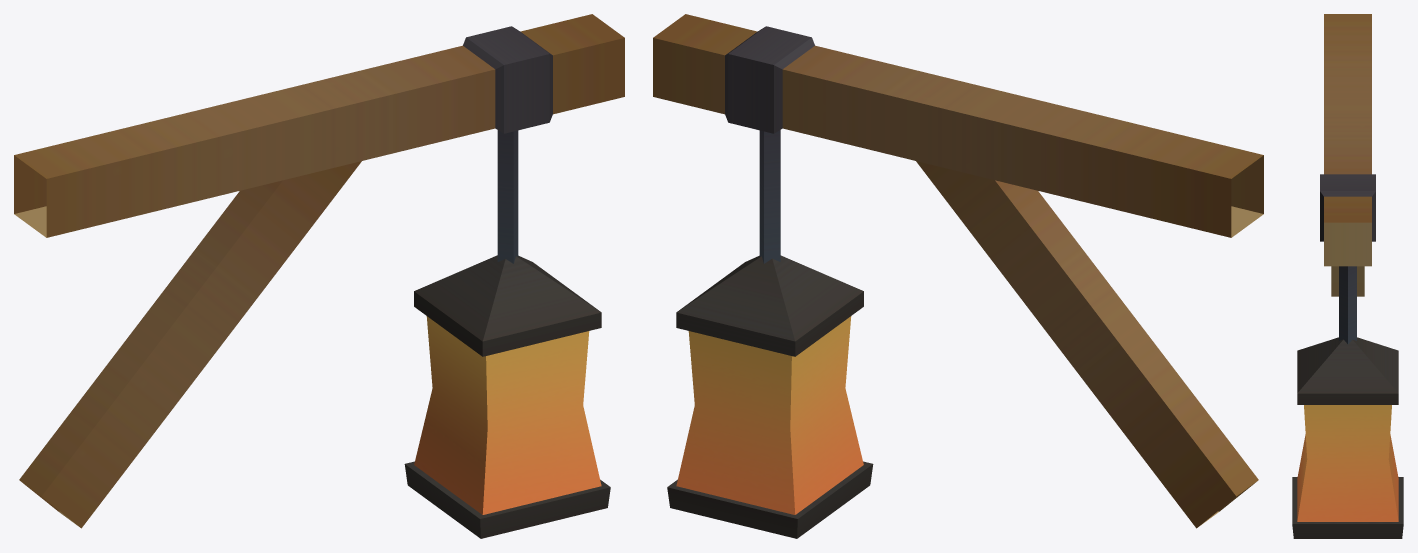
File: Lamp_3_LOD1.fbx
3 renders of one model, left to right at view 1: azimuth 30°, elevation 25°; view 2: azimuth 150°, elevation 25°; view 3: azimuth 270°, elevation 25°, orthographic. The views are drawn at different scales.
Parts seen in each view (by area): view 1: polySurface9697; view 2: polySurface9697; view 3: polySurface9697.
Boxes of the visible parts, box(x1,y1,x2,y2) form: polySurface9697: box(14, 14, 624, 538); polySurface9697: box(653, 14, 1263, 538); polySurface9697: box(1292, 14, 1403, 538).
Size of the model in its own units: 205 by 153 by 46.33.
